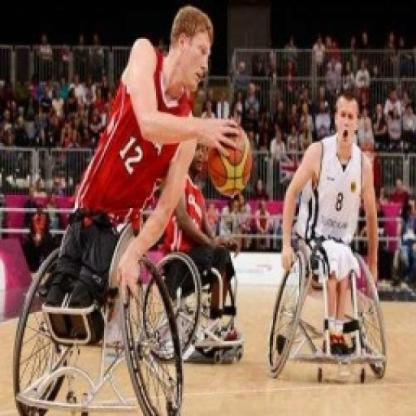basketball: (210, 127, 257, 198)
